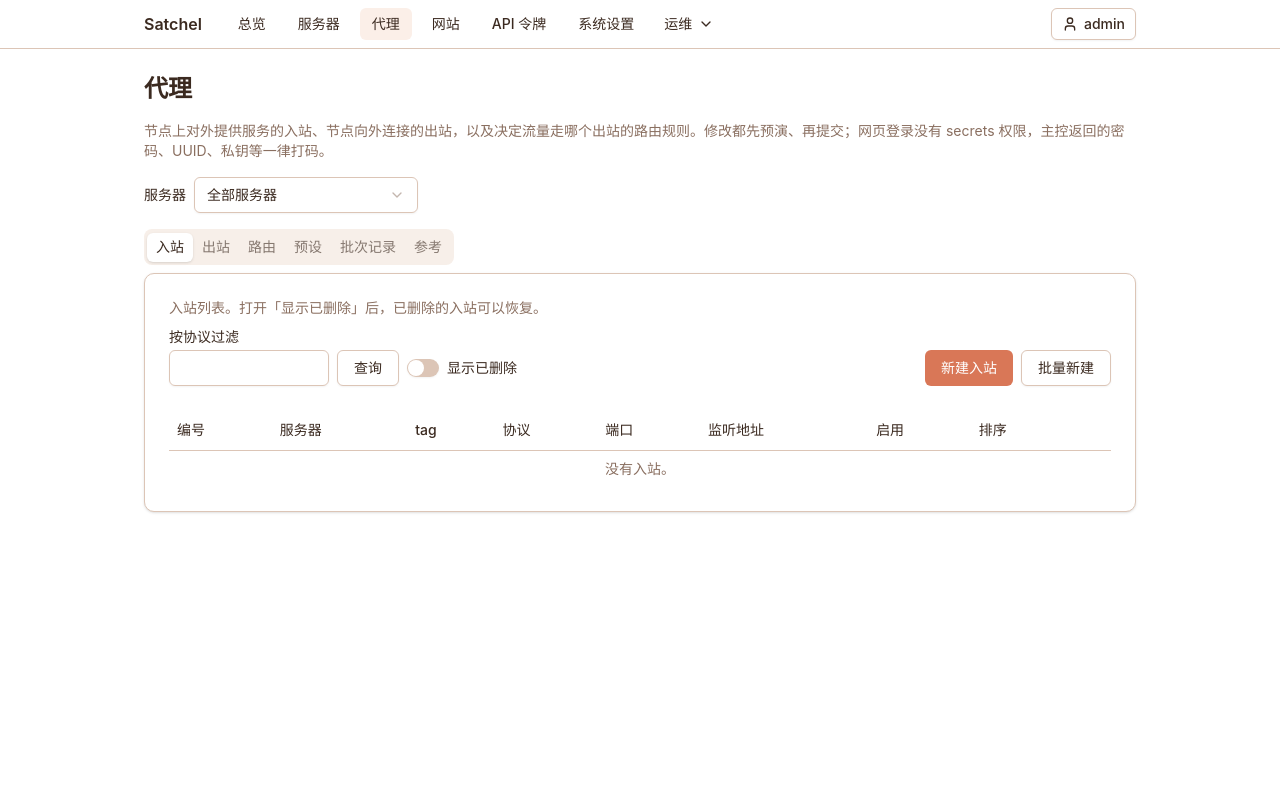
Test: 代理页：预设 › 从内置预设新建路由规则：填入匹配条件与默认出站，预演的 spec 是完整的新规则
Click the tab "预设" at (308, 247), box [285,232,331,262]
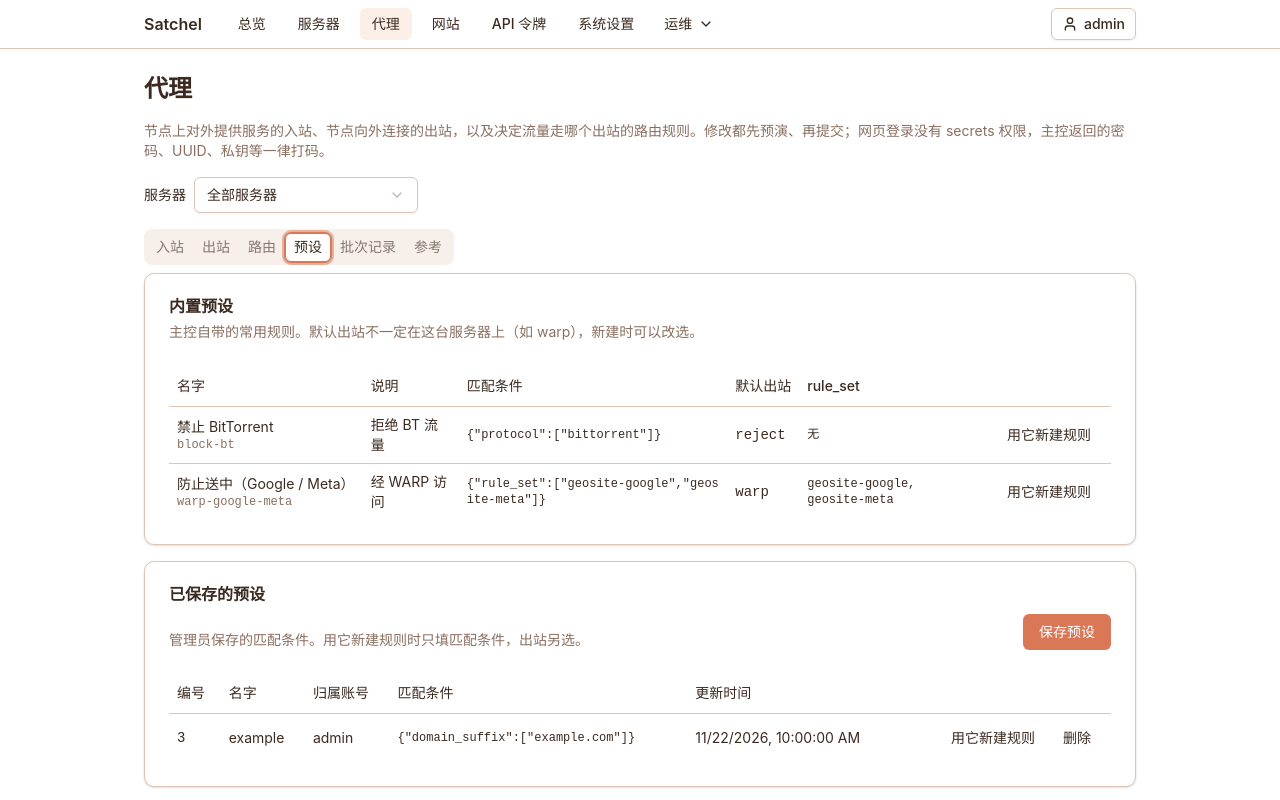
Click the button "用它新建规则" in the row of "禁止 BitTorrent" at (1049, 434), box [995,418,1103,450]
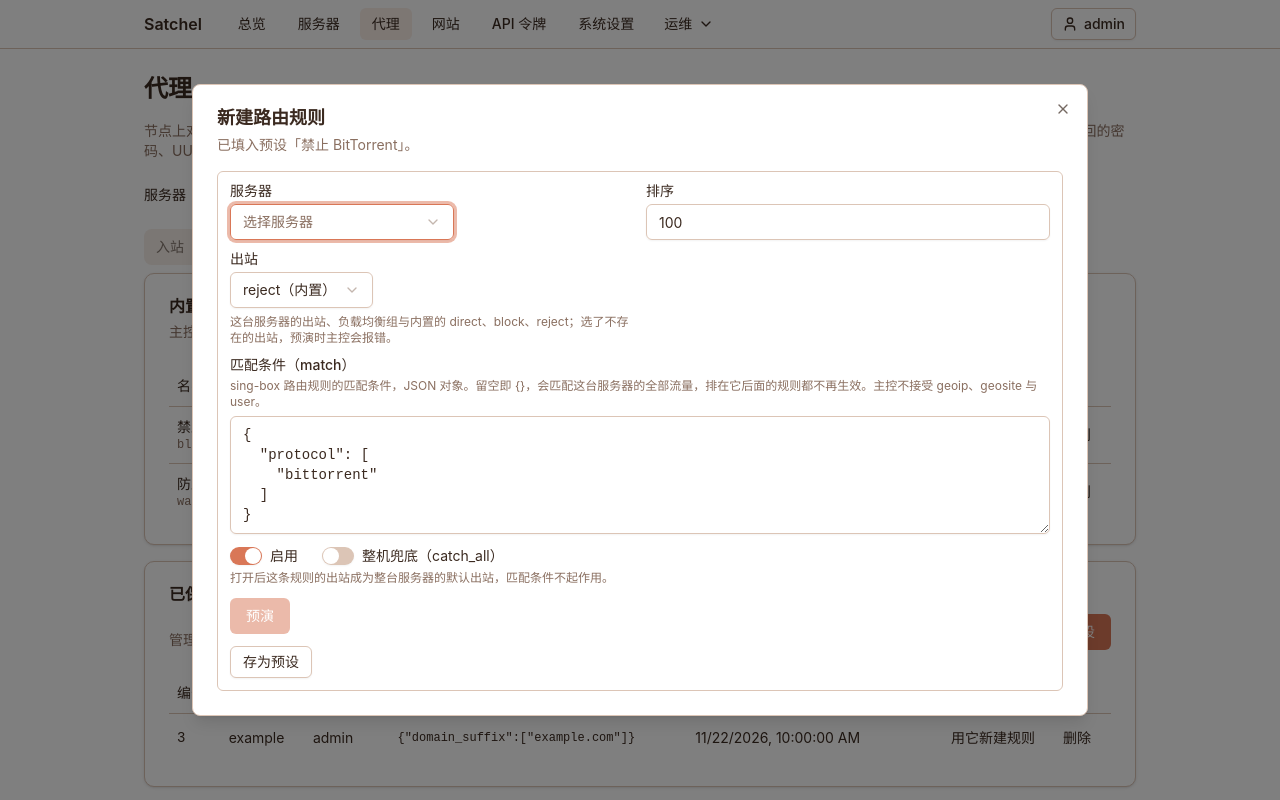
Check: the text "已填入预设「禁止 BitTorrent」。" is shown, box [217,136,418,153]
Click the dropdown labelled "服务器" at (342, 222), box [230,204,454,240]
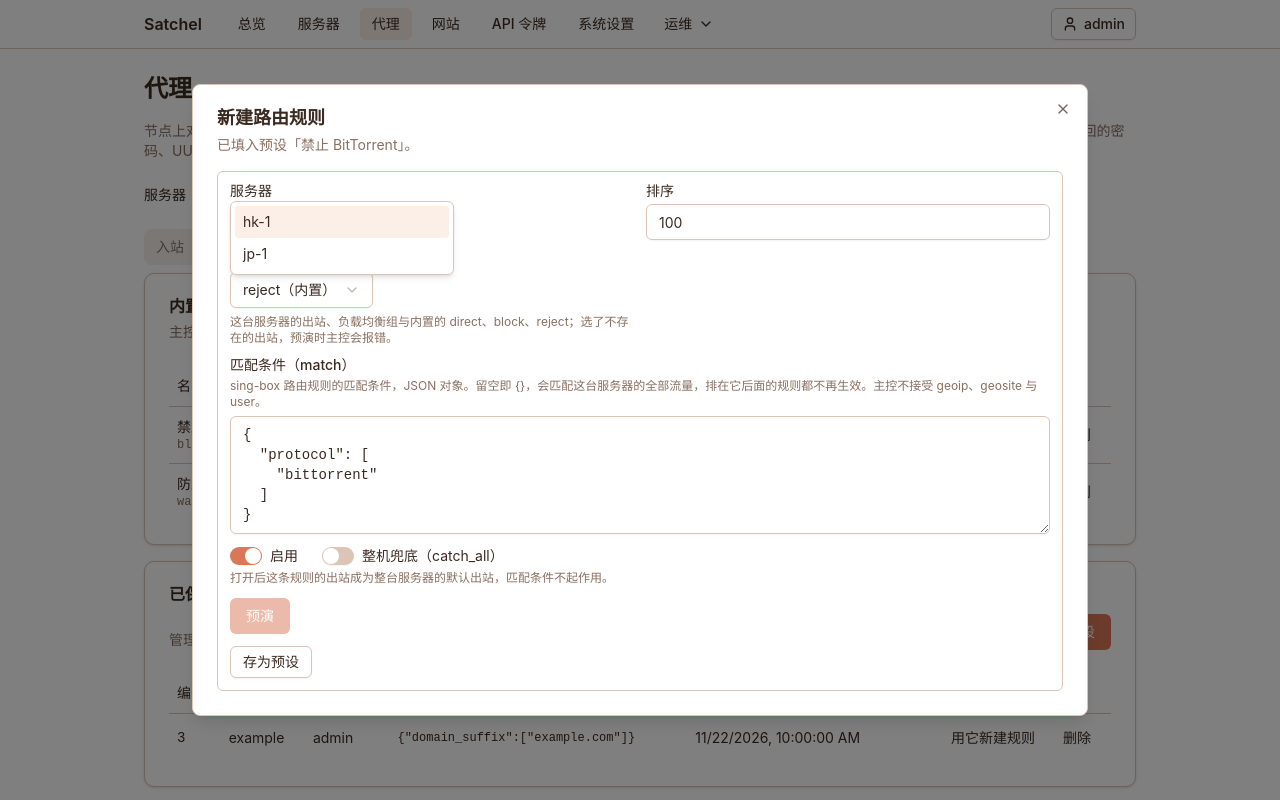
Click the option "hk-1" at (342, 222), box [235,206,449,238]
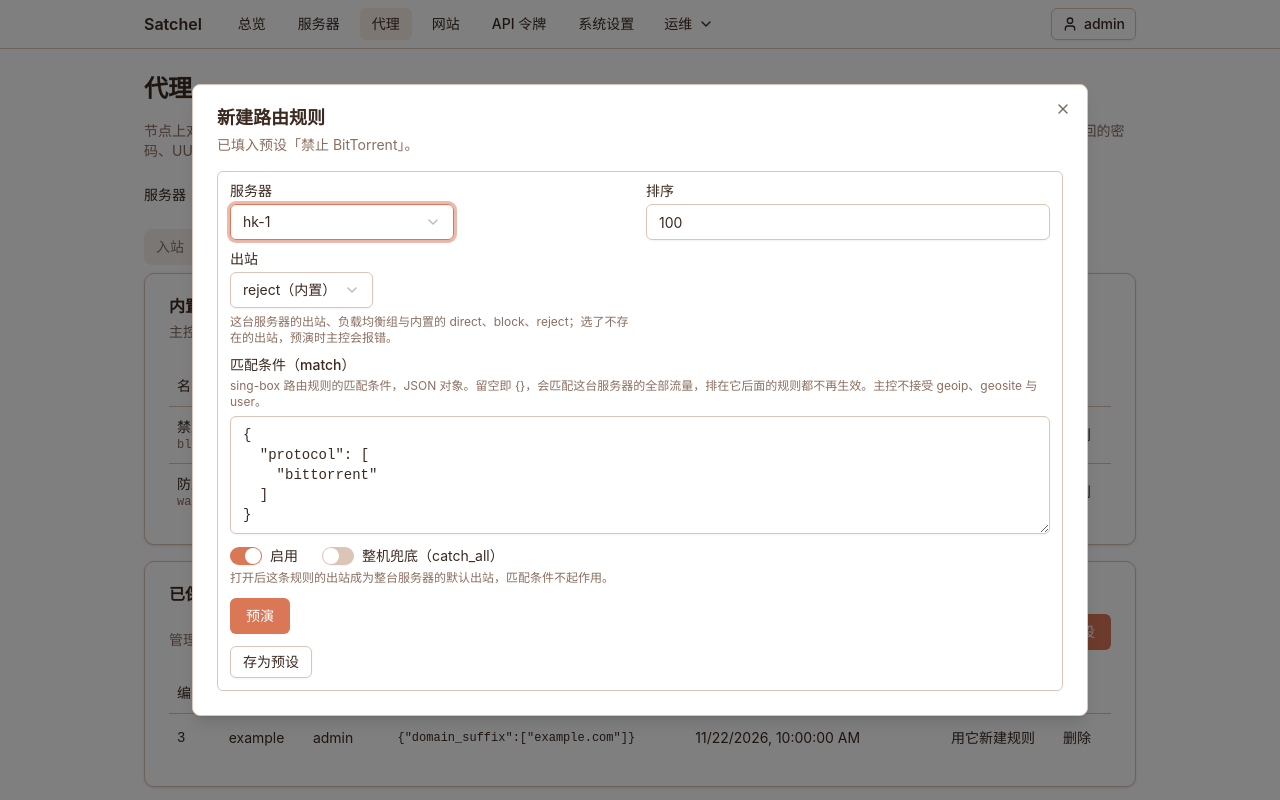
Click the button "预演" at (260, 616), box [230,598,290,634]
(page scrolled)
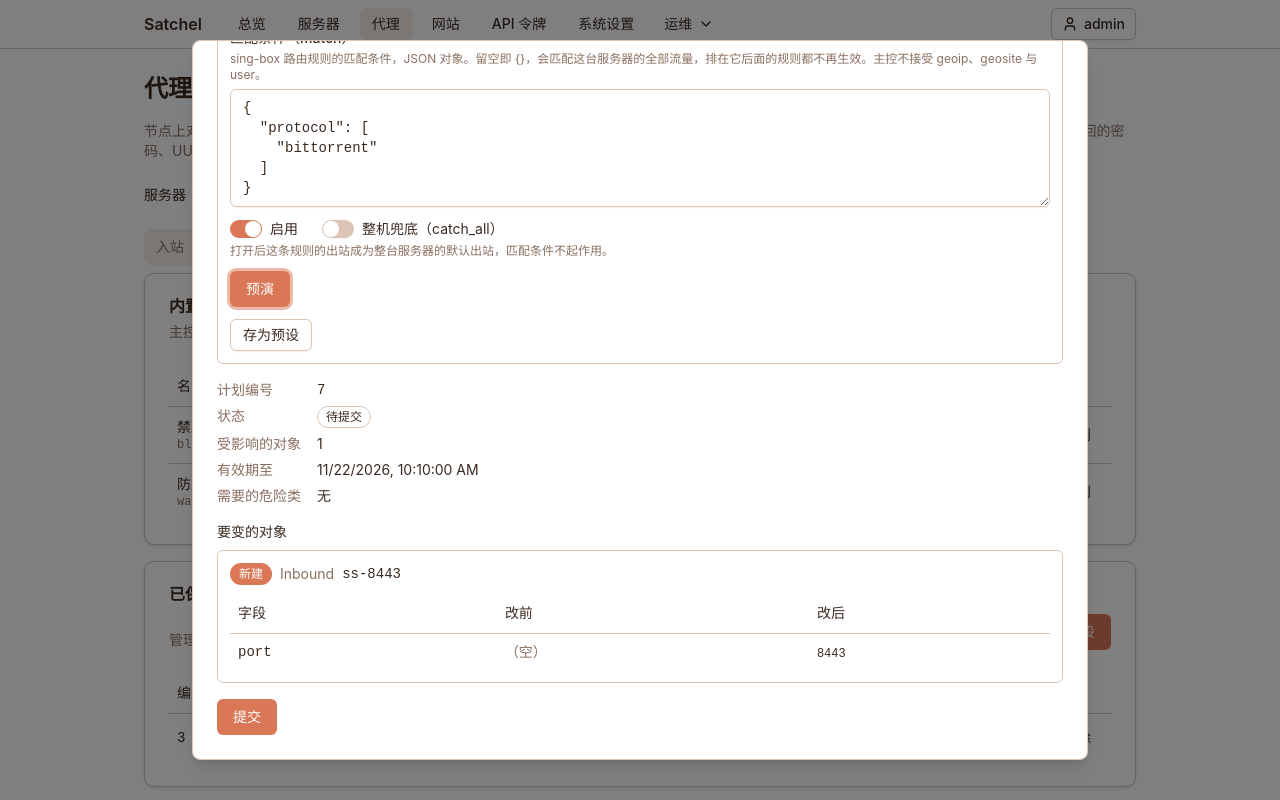
Check: the element with test id "plan-review" is shown, box [217,380,1063,734]
